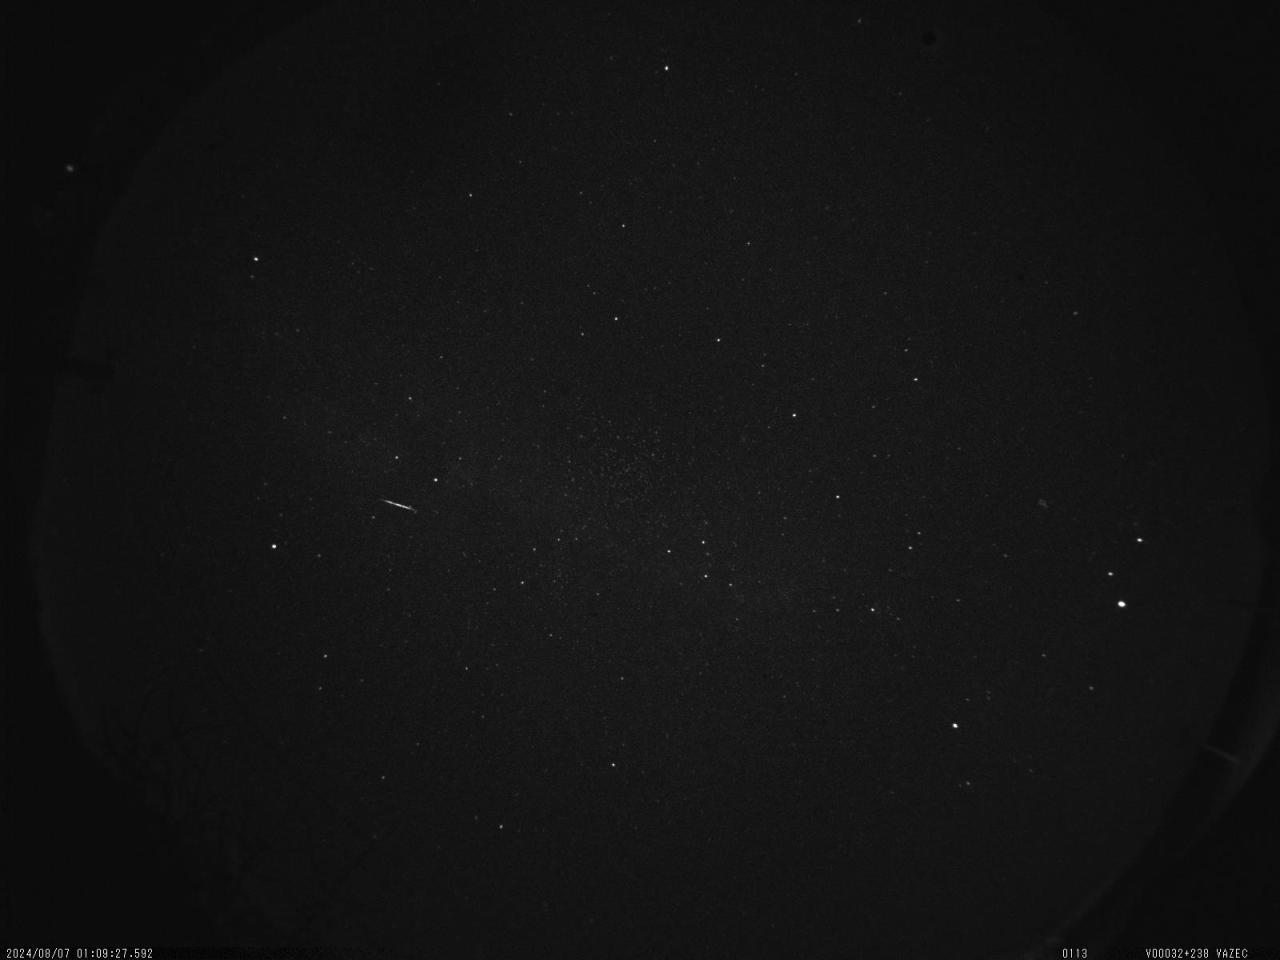Meteor: (381, 497, 418, 512)
